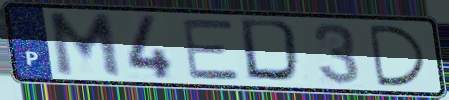3: (311, 21, 364, 88)
4: (124, 13, 176, 83)
D: (237, 17, 308, 86), (365, 22, 430, 88)
E: (179, 18, 245, 82)
M: (45, 11, 126, 81)
